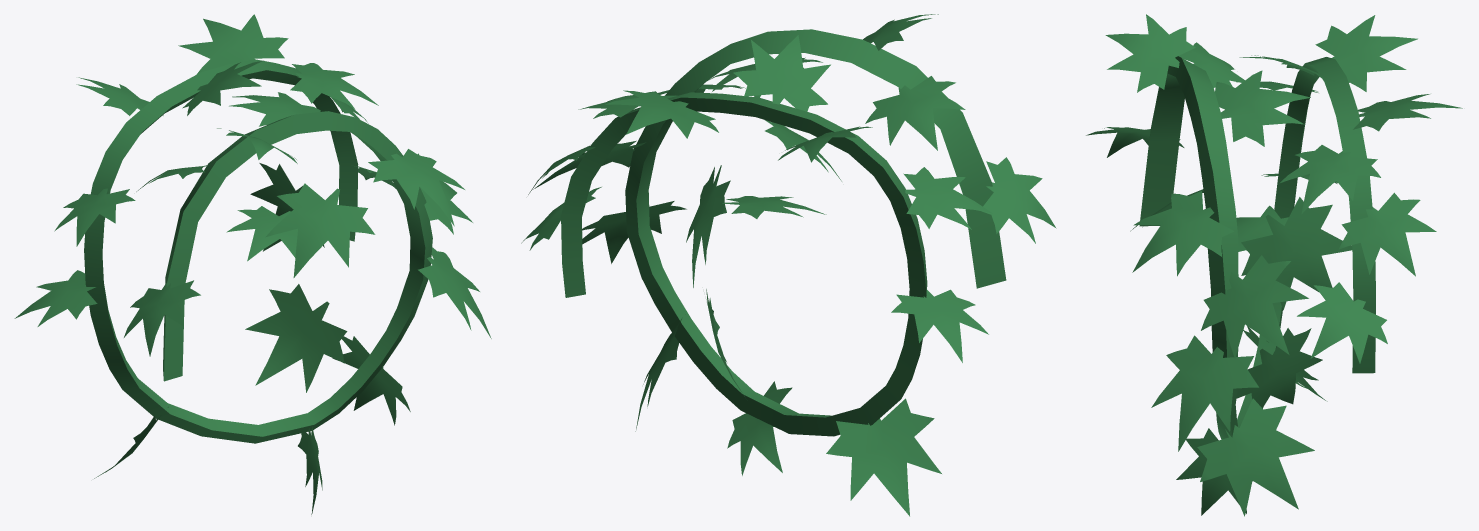
File: vine_V_alangium_loop_big.fbx
The picture shows the model from 3 angles, left to right: view 1: azimuth 30°, elevation 25°; view 2: azimuth 150°, elevation 25°; view 3: azimuth 270°, elevation 25°; orthographic projection. The views are drawn at different scales.
Visible parts, largest first — view 1: vine_V_scanden_loop_big_root, vine_alangium_A_leaf_B78, vine_alangium_A_leaf_B75, vine_alangium_A_leaf_B70, vine_alangium_A_leaf_B71, vine_alangium_A_leaf_B66, vine_alangium_A_leaf_B76, vine_alangium_A_leaf_B63, vine_alangium_A_leaf_B81, vine_alangium_A_leaf_B74, vine_alangium_A_leaf_B62, vine_alangium_A_leaf_B80 (+6 smaller); view 2: vine_V_scanden_loop_big_root, vine_alangium_A_leaf_B64, vine_alangium_A_leaf_B68, vine_alangium_A_leaf_B69, vine_alangium_A_leaf_B66, vine_alangium_A_leaf_B63, vine_alangium_A_leaf_B62, vine_alangium_A_leaf_B70, vine_alangium_A_leaf_B, vine_alangium_A_leaf_B72, vine_alangium_A_leaf_B76, vine_alangium_A_leaf_B80 (+7 smaller); view 3: vine_V_scanden_loop_big_root, vine_alangium_A_leaf_B74, vine_alangium_A_leaf_B76, vine_alangium_A_leaf_B72, vine_alangium_A_leaf_B65, vine_alangium_A_leaf_B71, vine_alangium_A_leaf_B79, vine_alangium_A_leaf_B77, vine_alangium_A_leaf_B73, vine_alangium_A_leaf_B82, vine_alangium_A_leaf_B67, vine_alangium_A_leaf_B78 (+6 smaller).
Part boxes in pixels (box(x1,y1,x2,y2)): vine_V_scanden_loop_big_root: box(84, 59, 432, 443); vine_alangium_A_leaf_B78: box(245, 284, 347, 392); vine_alangium_A_leaf_B75: box(265, 183, 375, 277); vine_alangium_A_leaf_B70: box(178, 14, 288, 74); vine_alangium_A_leaf_B71: box(368, 149, 464, 226); vine_alangium_A_leaf_B66: box(124, 280, 200, 356); vine_alangium_A_leaf_B76: box(418, 247, 491, 338); vine_alangium_A_leaf_B63: box(14, 270, 97, 326); vine_alangium_A_leaf_B81: box(290, 63, 378, 109); vine_alangium_A_leaf_B74: box(332, 336, 410, 425); vine_alangium_A_leaf_B62: box(54, 188, 135, 246); vine_alangium_A_leaf_B80: box(226, 206, 297, 261); vine_V_scanden_loop_big_root: box(561, 29, 1006, 436); vine_alangium_A_leaf_B64: box(826, 398, 941, 516); vine_alangium_A_leaf_B68: box(733, 35, 830, 111); vine_alangium_A_leaf_B69: box(865, 76, 965, 150); vine_alangium_A_leaf_B66: box(982, 157, 1056, 243); vine_alangium_A_leaf_B63: box(891, 289, 988, 362); vine_alangium_A_leaf_B62: box(903, 167, 992, 229); vine_alangium_A_leaf_B70: box(605, 90, 718, 138); vine_alangium_A_leaf_B: box(727, 381, 792, 475); vine_alangium_A_leaf_B72: box(686, 165, 730, 287); vine_alangium_A_leaf_B76: box(582, 201, 686, 263); vine_alangium_A_leaf_B80: box(722, 196, 826, 218); vine_V_scanden_loop_big_root: box(1139, 56, 1375, 439); vine_alangium_A_leaf_B74: box(1197, 398, 1314, 516); vine_alangium_A_leaf_B76: box(1151, 335, 1258, 451); vine_alangium_A_leaf_B72: box(1241, 197, 1352, 310); vine_alangium_A_leaf_B65: box(1201, 255, 1308, 358); vine_alangium_A_leaf_B71: box(1132, 191, 1233, 276); vine_alangium_A_leaf_B79: box(1338, 192, 1436, 276); vine_alangium_A_leaf_B77: box(1215, 70, 1310, 146); vine_alangium_A_leaf_B73: box(1297, 282, 1387, 363); vine_alangium_A_leaf_B82: box(1105, 14, 1195, 92); vine_alangium_A_leaf_B67: box(1315, 15, 1417, 91); vine_alangium_A_leaf_B78: box(1236, 328, 1322, 408).
Size of the model in its own units: 79.4 by 77.61 by 59.66.
